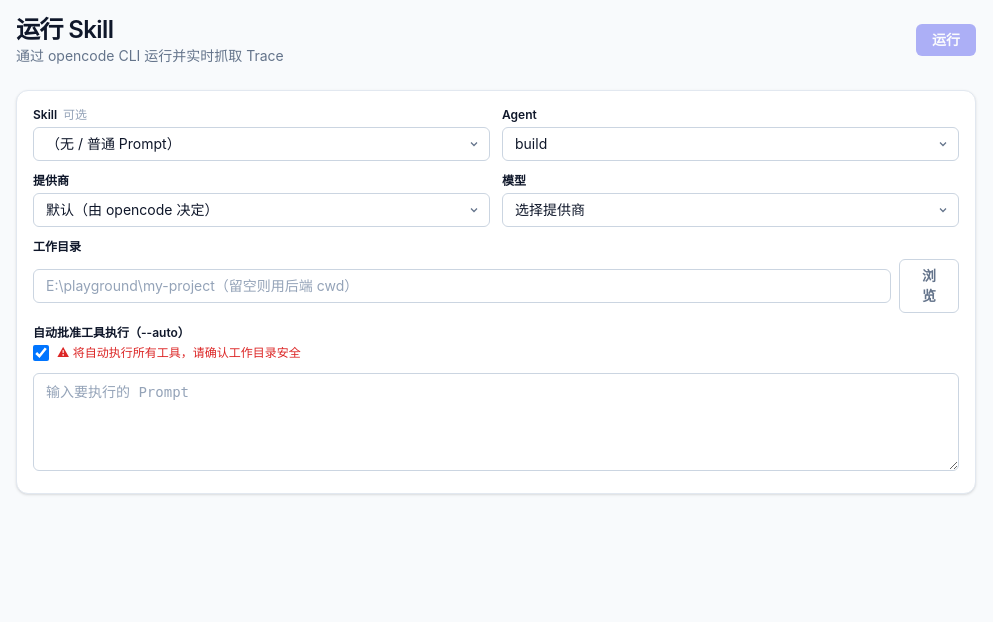
RunPage › stops a running stream and reverts the button
This screenshot has width=993, height=622.
In the text box with placeholder "输入要执行的 Prompt": x=496, y=422 [33,373,959,471], type "list files"
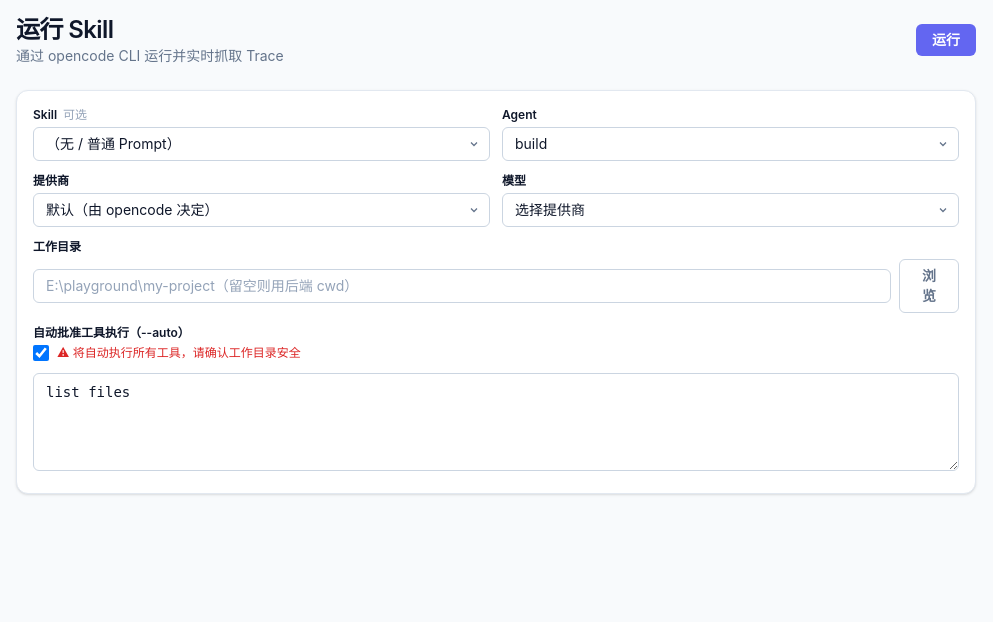
Click the button "运行": x=946, y=40 [916,24,976,56]
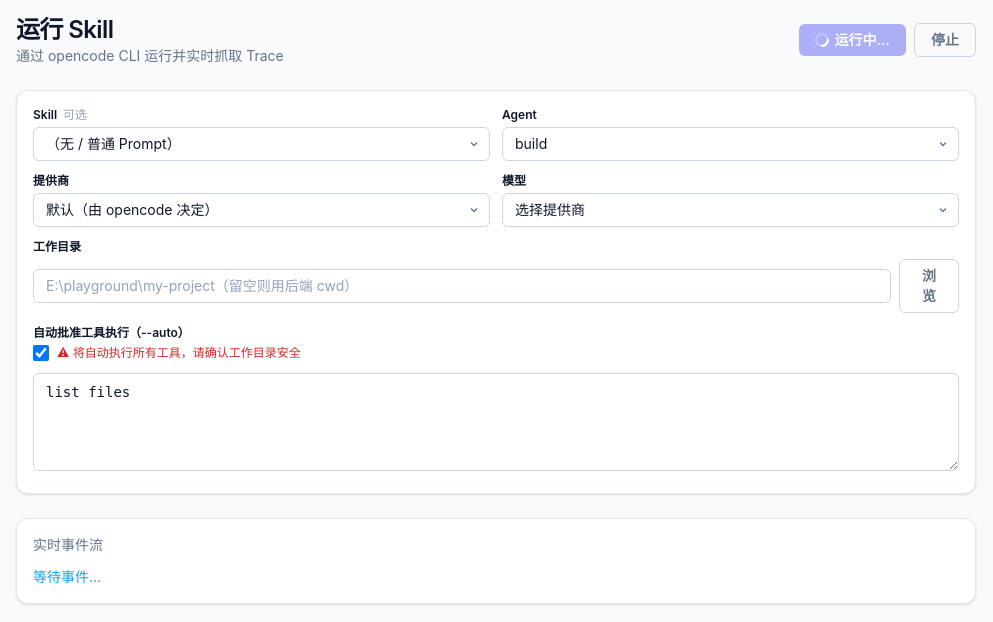
Result: the button "停止" is shown
Click the button "停止": x=945, y=40 [914,23,976,57]
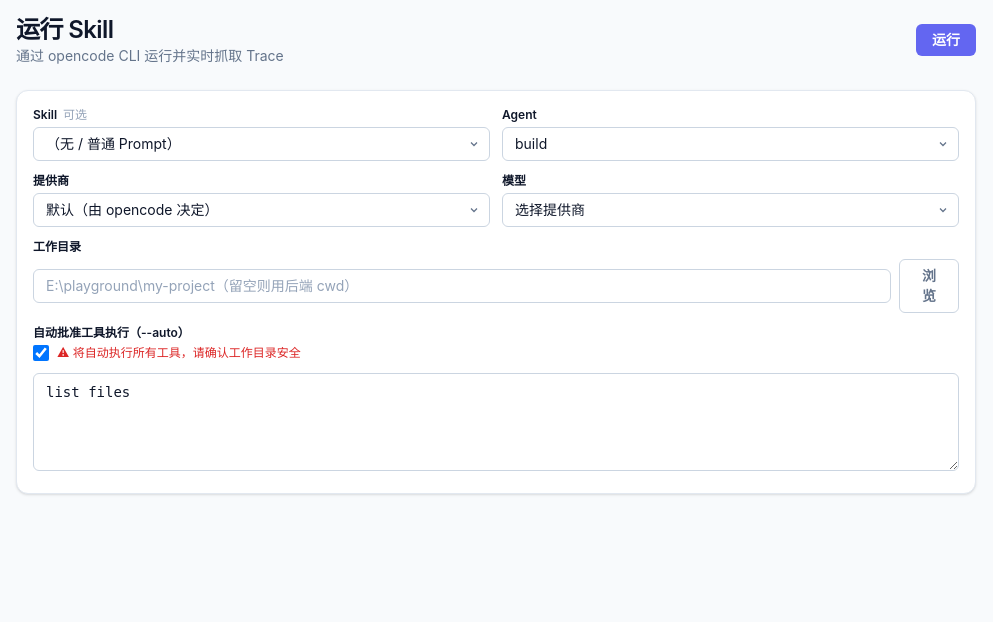
Result: the button "停止" is gone
